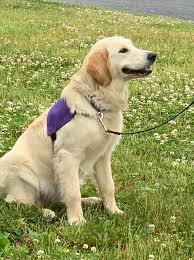dog: (25, 29, 166, 226)
